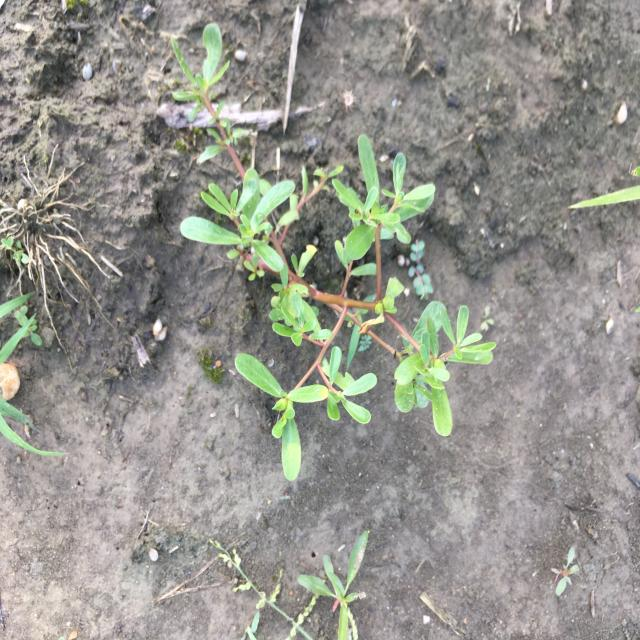Purslane: (169, 22, 498, 484)
Waterhemp: (296, 528, 370, 639)
